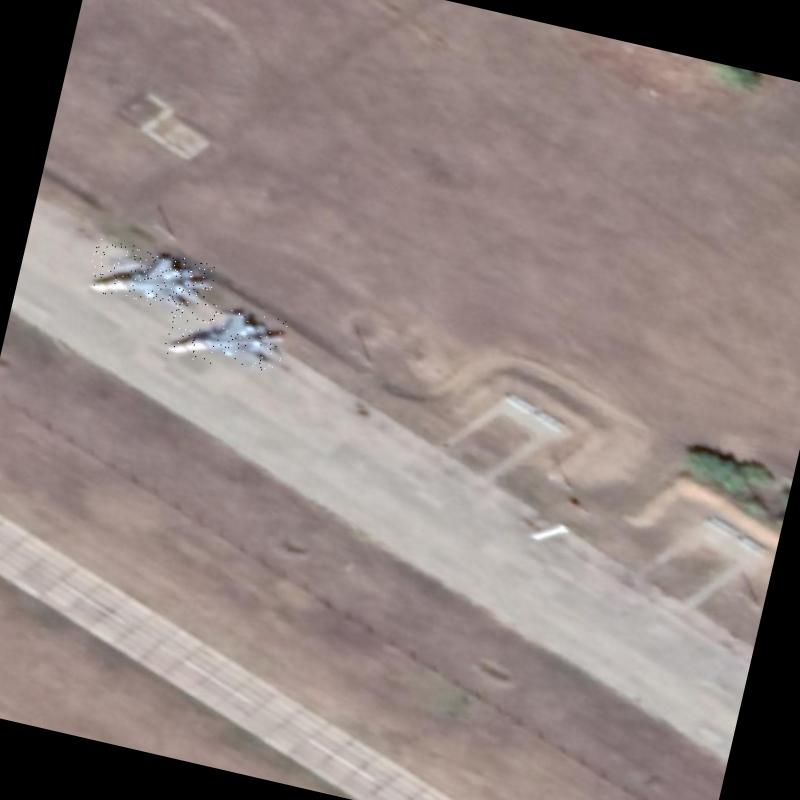A19: (162, 294, 289, 378), (85, 237, 217, 317)
